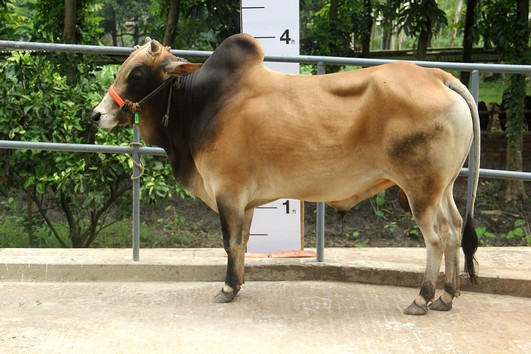cow: (89, 30, 481, 320)
